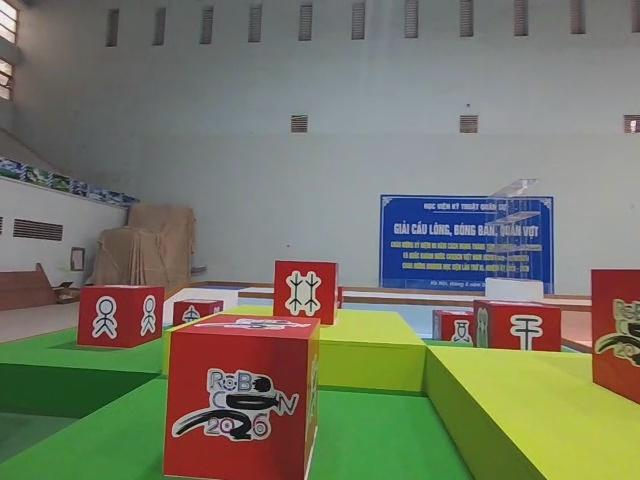R1: (159, 311, 323, 480), (587, 265, 640, 407)
R2 Fake: (472, 297, 565, 362), (170, 297, 225, 330)
R2 Real: (80, 279, 162, 357), (271, 257, 338, 328), (428, 307, 482, 346)
